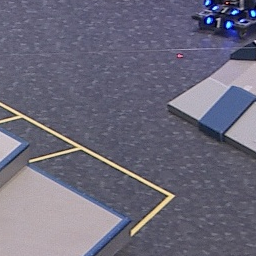Blue: (206, 15, 232, 30), (212, 5, 239, 16)
Robot: (190, 1, 256, 38)
